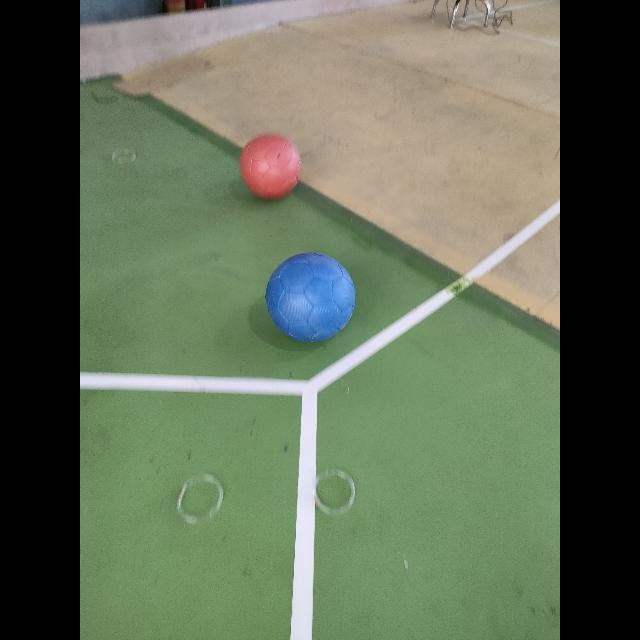B: (266, 252, 355, 341)
R: (240, 134, 301, 199)
